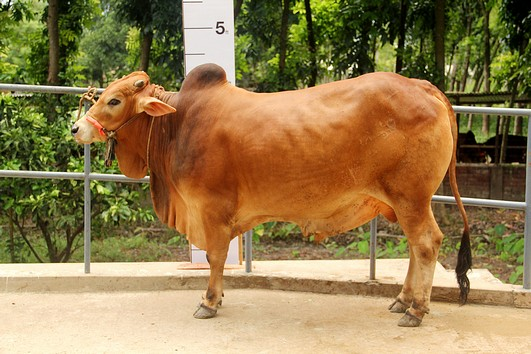cow: (60, 60, 477, 335)
